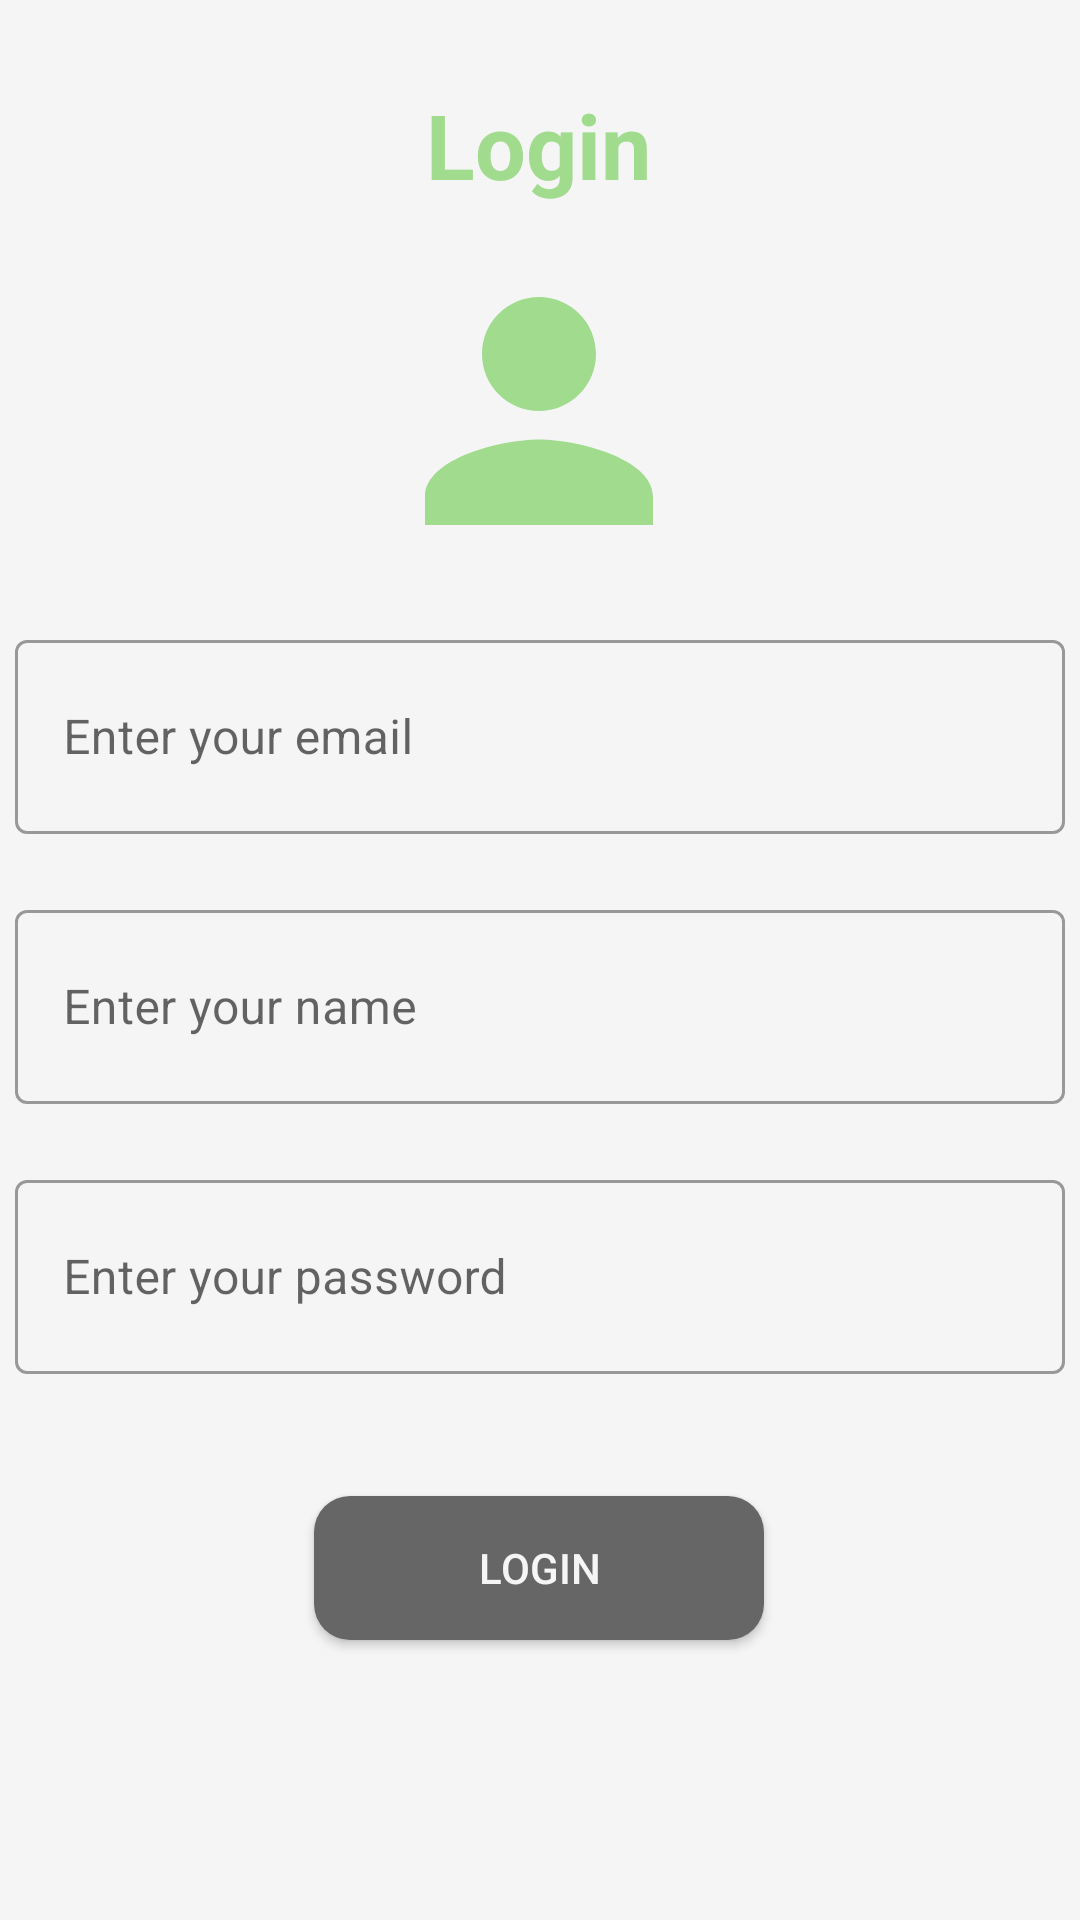

Icons on this 1080 x 1920 Android screen, each with its box as (x1, y1, x2, y2):
person: (425, 297, 653, 525)
